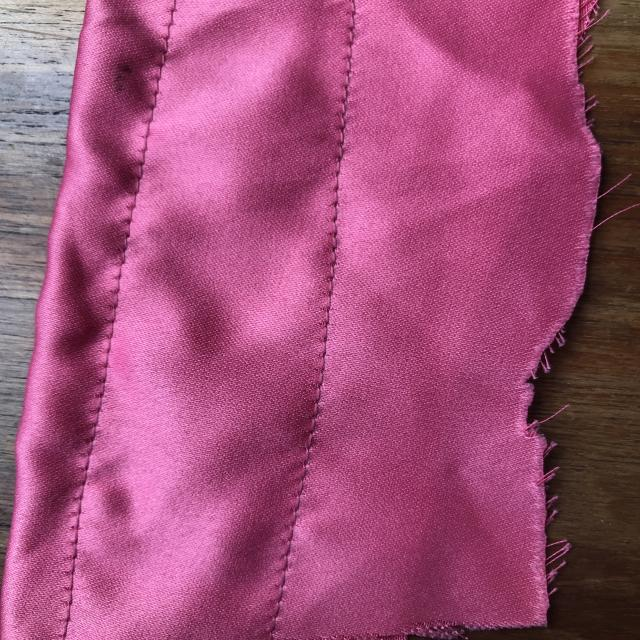good: (311, 164, 361, 288)
